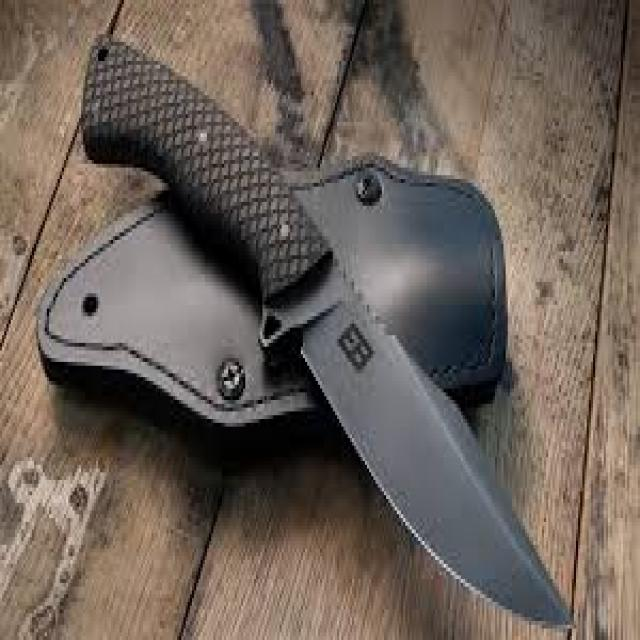knives: (106, 15, 614, 632)
